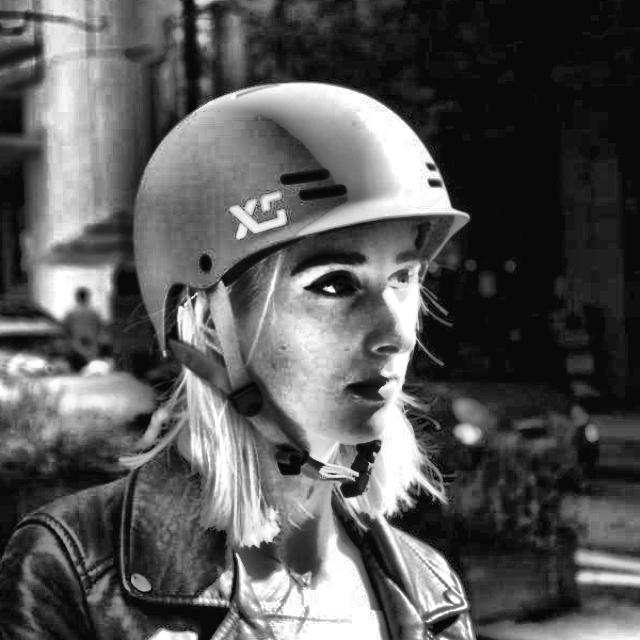Helmet: (124, 75, 480, 508)
